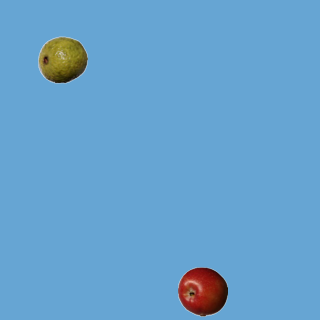Apple Braeburn: (177, 266, 227, 316)
Guava: (37, 34, 87, 84)
